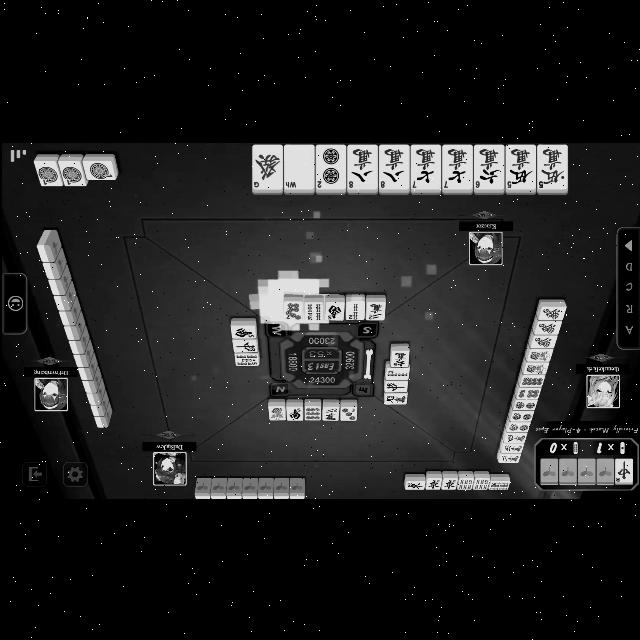1p: (61, 160, 85, 184), (36, 159, 58, 185), (84, 160, 114, 178)
1s: (525, 348, 551, 360), (268, 404, 284, 420), (524, 362, 546, 372)
2m: (366, 301, 384, 319), (498, 452, 520, 462), (322, 406, 336, 419)
2p: (316, 144, 344, 188), (513, 399, 535, 409), (509, 410, 531, 420), (506, 422, 528, 432)
2s: (384, 367, 408, 379), (347, 300, 363, 318)
3m: (501, 442, 522, 452)
3p: (340, 404, 356, 420)
4m: (504, 432, 524, 442)
4s: (306, 300, 320, 320)
5m: (536, 144, 566, 188), (505, 144, 535, 188)
5s: (235, 354, 258, 364)
6m: (473, 143, 503, 187), (390, 350, 408, 366)
6p: (516, 388, 538, 397)
6s: (488, 480, 508, 490), (474, 478, 488, 488), (458, 478, 472, 488)
7m: (410, 144, 440, 188), (443, 144, 471, 188)
7p: (284, 301, 300, 319)
8m: (378, 145, 408, 189), (346, 145, 376, 187)
8p: (519, 376, 543, 384)
9m: (384, 392, 406, 402)
9p: (304, 406, 318, 420)
chun: (614, 458, 632, 482), (231, 338, 257, 352), (384, 380, 406, 390)
haku: (283, 144, 313, 188)
hatsu: (252, 144, 282, 188), (538, 306, 564, 318), (534, 321, 558, 333), (531, 334, 555, 346)
nan: (323, 301, 342, 319), (231, 324, 255, 336), (286, 404, 302, 420)
tou: (404, 479, 424, 488), (442, 478, 454, 488), (426, 478, 438, 488)
